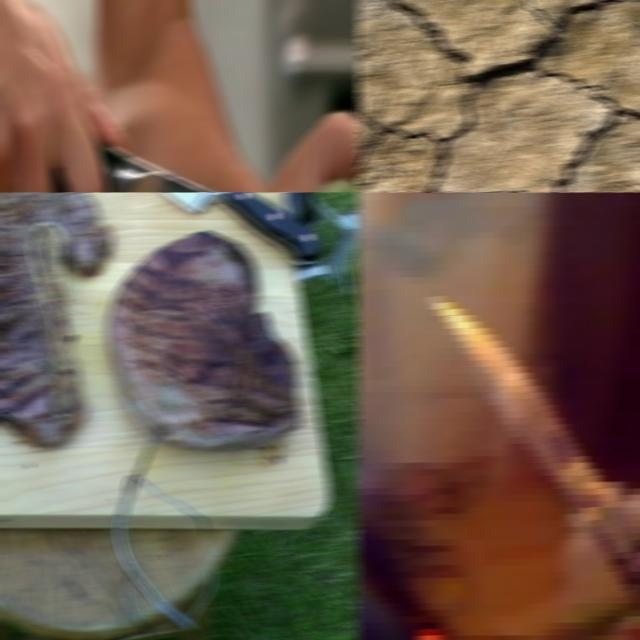Knife: (99, 135, 360, 192)
Knife_Handle: (429, 296, 640, 640), (0, 0, 360, 192)
